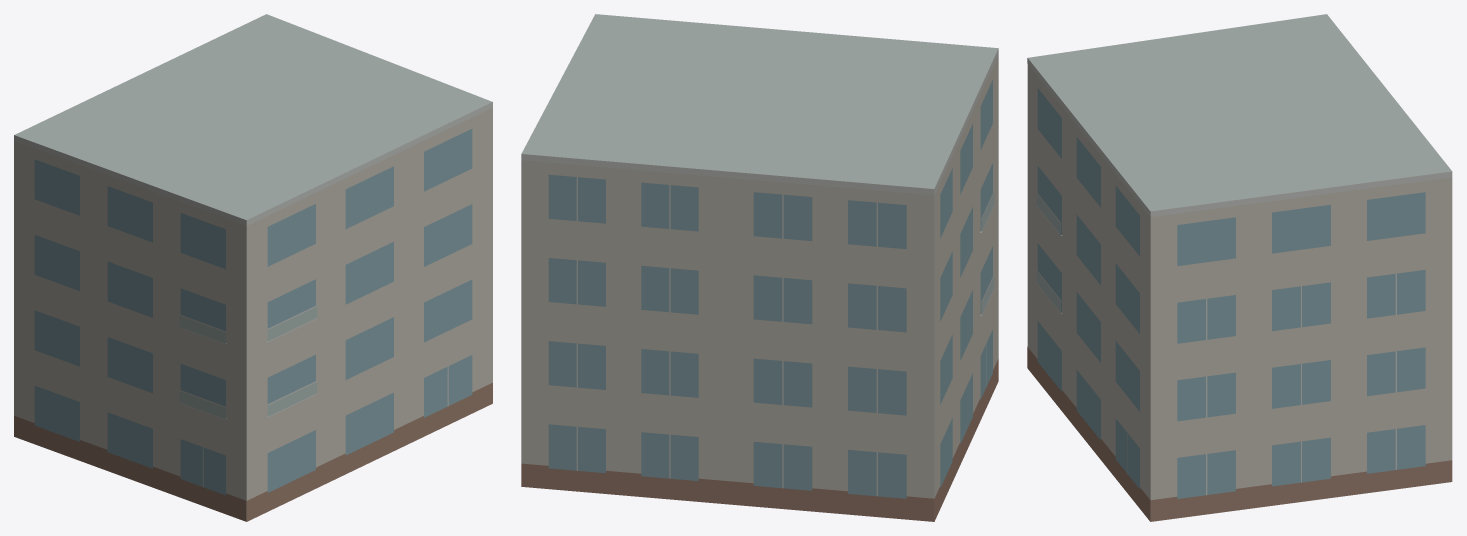
The model's file is survey-upis-32737197.glb.
3 renders of one model, left to right at view 1: azimuth 30°, elevation 25°; view 2: azimuth 150°, elevation 25°; view 3: azimuth 270°, elevation 25°, orthographic. The views are drawn at different scales.
Parts seen in each view (by area): view 1: survey-upis-32737197.tmp; view 2: survey-upis-32737197.tmp; view 3: survey-upis-32737197.tmp.
Boxes of the visible parts, box(x1,y1,x2,y2) form: survey-upis-32737197.tmp: box(14, 14, 492, 521); survey-upis-32737197.tmp: box(521, 14, 998, 521); survey-upis-32737197.tmp: box(1027, 14, 1452, 521).
Bounding box in the file's own units: 17.74 × 13 × 16.13.
